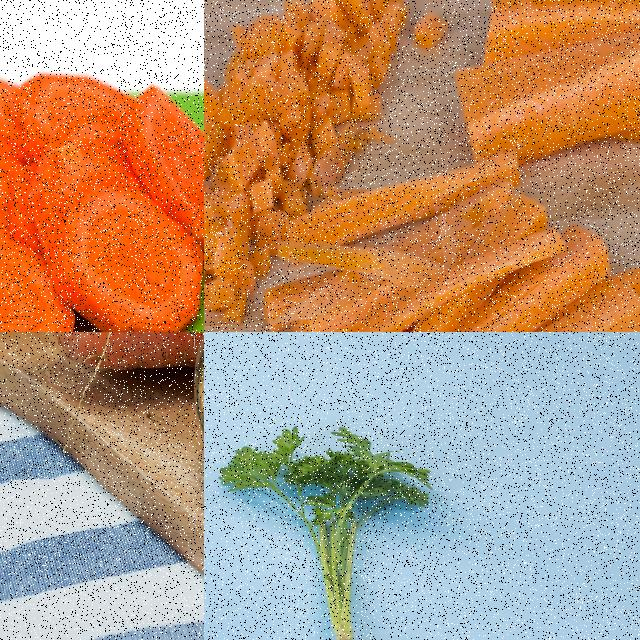carrot: (249, 124, 639, 331), (0, 63, 203, 331), (444, 0, 639, 182)
